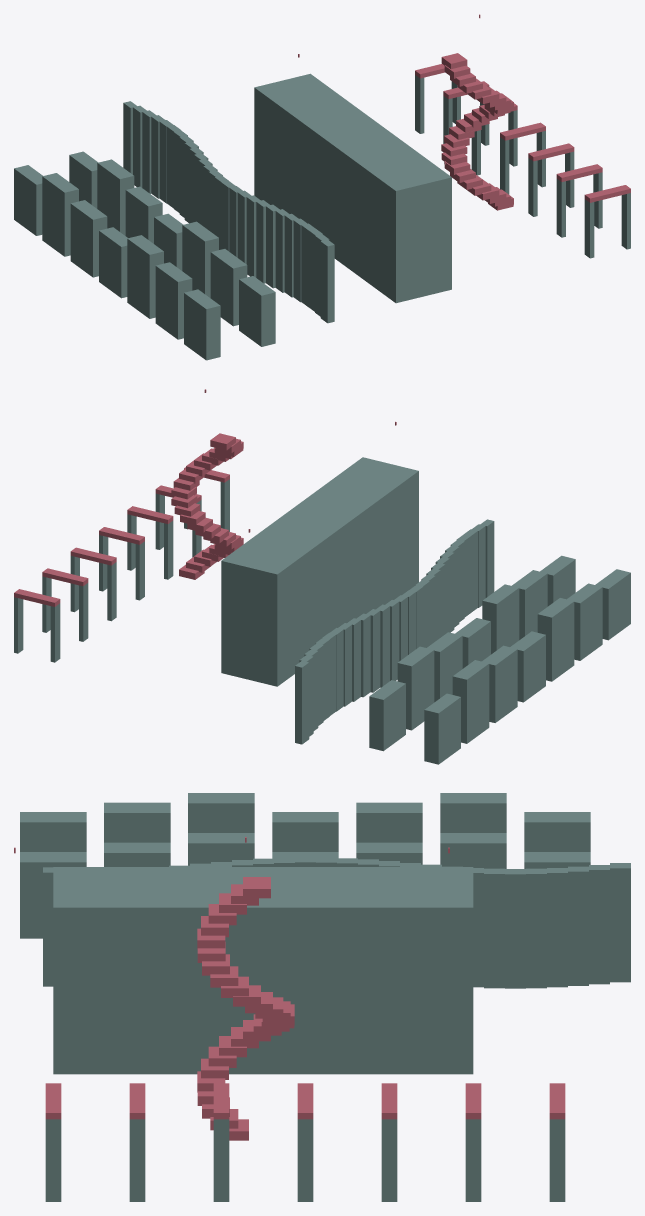
Rendered from district.glb.
The picture shows the model from 3 angles, top to bottom: view 1: azimuth 30°, elevation 25°; view 2: azimuth 150°, elevation 25°; view 3: azimuth 270°, elevation 25°; orthographic projection. The views are drawn at different scales.
Visible parts, largest first — view 1: box-0, box-82, box-88, box-78, box-79, box-80, box-86, box-81, box-89, box-83, box-84, box-90 (+32 smaller); view 2: box-0, box-82, box-88, box-89, box-90, box-91, box-80, box-86, box-83, box-78, box-84, box-87 (+30 smaller); view 3: box-0, box-80, box-86, box-78, box-82, box-84, box-88, box-90, box-79, box-22, box-24, box-23 (+26 smaller).
Part boxes in pixels (box(x1,y1,x2,y2)): box-0: box(254, 73, 451, 303); box-82: box(127, 235, 163, 318); box-88: box(42, 173, 78, 256); box-78: box(184, 289, 220, 360); box-79: box(239, 276, 275, 346); box-80: box(155, 262, 192, 339); box-86: box(70, 200, 107, 277); box-81: box(210, 249, 247, 326); box-89: box(97, 159, 134, 235); box-83: box(182, 221, 218, 297); box-84: box(99, 227, 127, 298); box-90: box(14, 165, 42, 235); box-0: box(221, 457, 418, 686); box-82: box(537, 598, 574, 681); box-88: box(452, 660, 489, 743); box-89: box(397, 646, 434, 730); box-90: box(424, 693, 460, 764); box-91: box(369, 680, 405, 751); box-80: box(567, 583, 602, 660); box-86: box(482, 645, 517, 722); box-83: box(482, 584, 519, 654); box-78: box(595, 569, 630, 640); box-84: box(510, 631, 545, 702); box-87: box(427, 632, 462, 702); box-0: box(53, 867, 473, 1074); box-80: box(104, 802, 170, 842); box-86: box(356, 802, 422, 842); box-78: box(20, 812, 86, 851); box-82: box(188, 793, 254, 832); box-84: box(272, 812, 338, 851); box-88: box(440, 793, 506, 832); box-90: box(524, 812, 590, 851); box-79: box(20, 852, 86, 938); box-22: box(484, 868, 504, 988); box-24: box(526, 868, 546, 988); box-23: box(505, 869, 525, 988).
Size of the model in its own units: 424 by 192 by 352.
